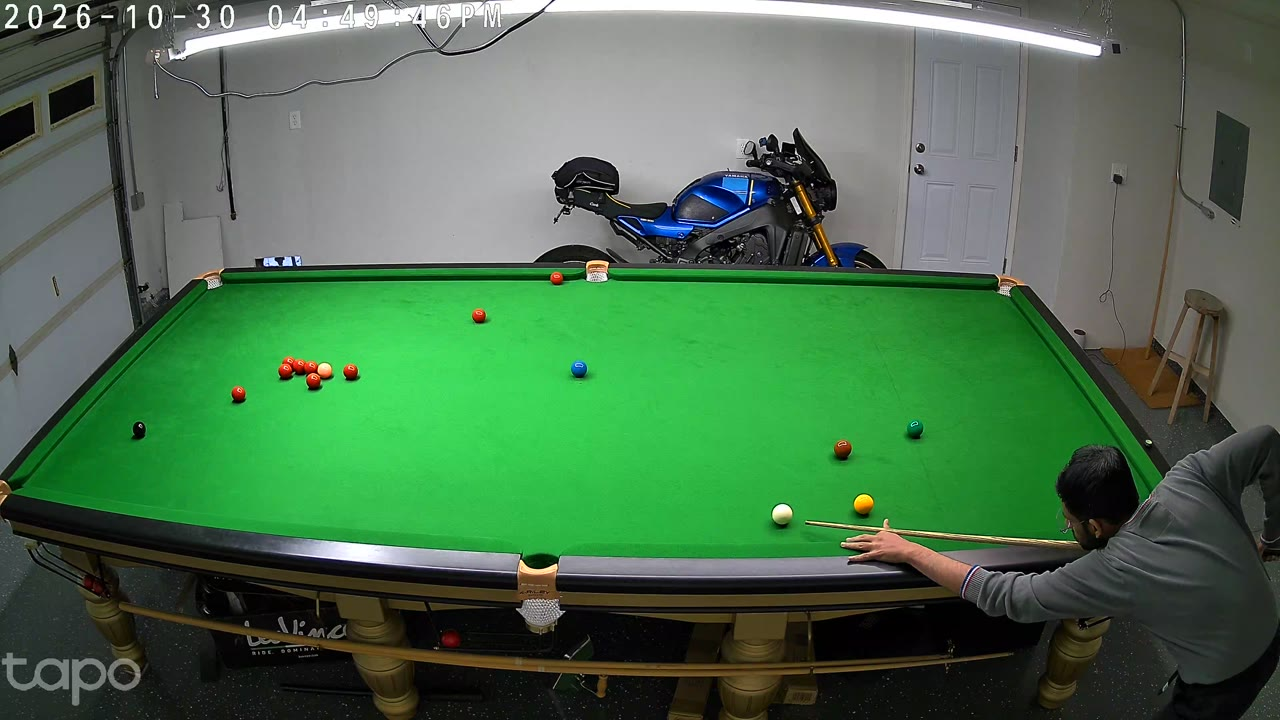black: (133, 420, 146, 441)
blue: (571, 359, 587, 380)
brown: (834, 438, 852, 461)
green: (906, 417, 923, 441)
pink: (319, 362, 330, 381)
red: (232, 385, 246, 405), (344, 363, 357, 382), (279, 362, 291, 382), (308, 371, 320, 391), (472, 308, 485, 326), (284, 356, 295, 376), (305, 360, 316, 378), (295, 358, 305, 376), (551, 271, 562, 287)
white: (771, 501, 794, 532)
yellow: (853, 492, 874, 518)
